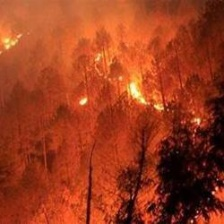fire: (78, 35, 204, 146), (1, 25, 27, 56)
